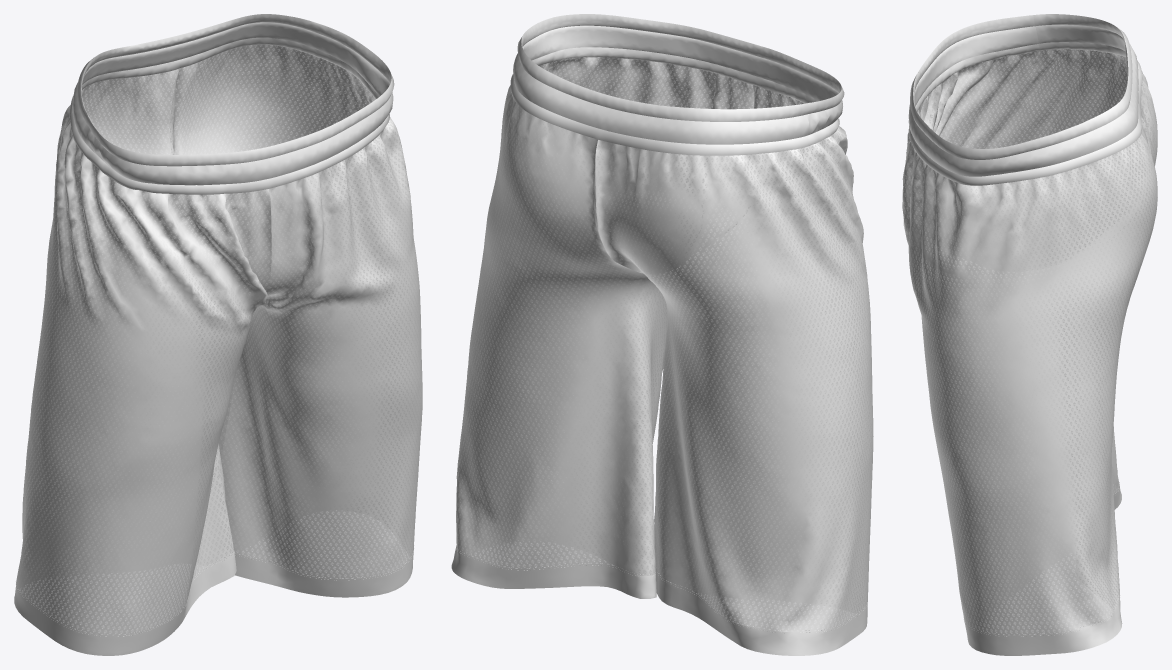
Rendered from short.glb.
3 renders of one model, left to right at view 1: azimuth 30°, elevation 25°; view 2: azimuth 150°, elevation 25°; view 3: azimuth 270°, elevation 25°, orthographic. The views are drawn at different scales.
Visible parts, largest first — view 1: B_L, B_R, Garter_O, Garter_I, Pattern_1433127, Pattern_1433122; view 2: B_L, B_R, Garter_O, Garter_I, Pattern_1433127, Pattern_1433122; view 3: B_R, B_L, Garter_O, Garter_I, Pattern_1433122.
Boxes of the visible parts, x1,y1,x2,y2 form: B_L: (16,68,271,635); B_R: (174,44,422,579); Garter_O: (69,58,394,194); Garter_I: (81,14,391,127); Pattern_1433127: (14,543,236,655); Pattern_1433122: (232,492,413,597); B_L: (595,85,873,631); B_R: (456,57,754,575); Garter_O: (510,37,844,155); Garter_I: (521,14,841,103); Pattern_1433127: (655,558,867,655); Pattern_1433122: (451,519,656,598); B_R: (902,116,1157,635); B_L: (906,49,1157,494); Garter_O: (908,28,1142,185); Garter_I: (913,14,1128,111); Pattern_1433122: (964,533,1122,655).
Size of the model in its own units: 0.4533 by 0.6226 by 0.2803.
Materials: 3 (2 with a texture image).
